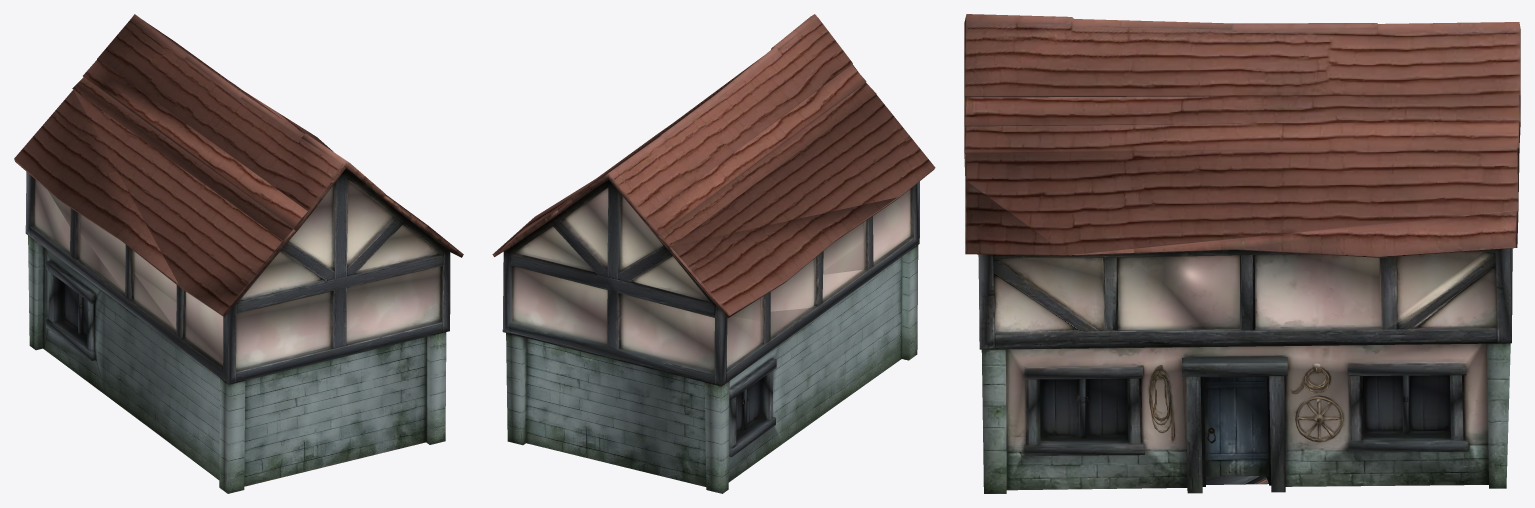
The model's file is workshop.glb.
The picture shows the model from 3 angles, left to right: view 1: azimuth 30°, elevation 25°; view 2: azimuth 150°, elevation 25°; view 3: azimuth 270°, elevation 25°; orthographic projection. The views are drawn at different scales.
Parts seen in each view (by area): view 1: model; view 2: model; view 3: model.
Boxes of the visible parts, box(x1,y1,x2,y2) form: model: box(14, 14, 463, 493); model: box(492, 14, 935, 493); model: box(964, 14, 1520, 493).
Size of the model in its own units: 0.8609 by 1 by 1.23.
Materials: 1 (1 with a texture image).
